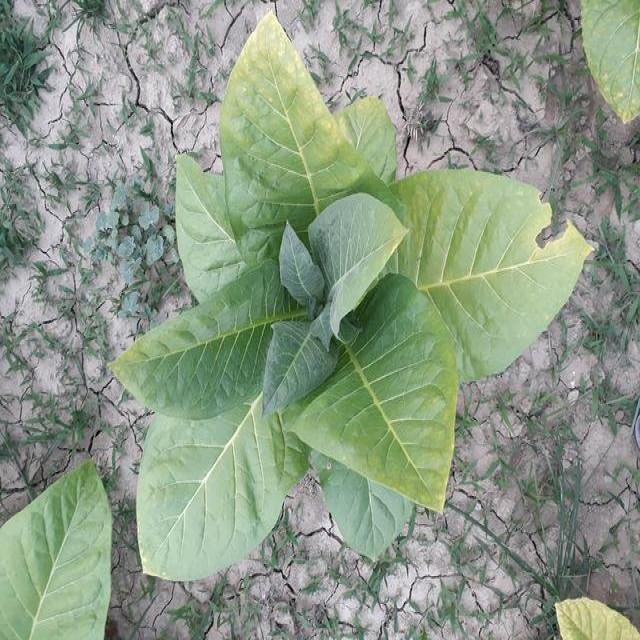crop: (116, 36, 590, 567), (7, 457, 110, 640), (562, 0, 639, 116), (551, 580, 640, 640)
